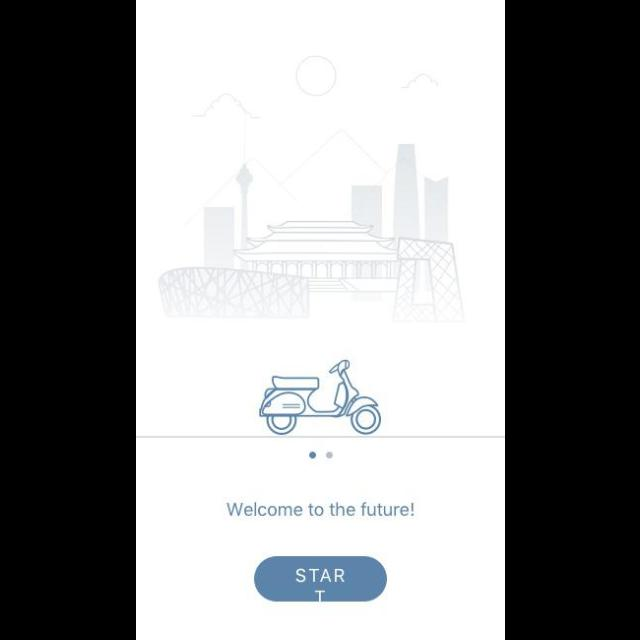image: (157, 55, 465, 323), (258, 359, 382, 437)
pageindicator: (308, 451, 334, 459)
text: (226, 500, 414, 518)
textbutton: (254, 554, 388, 602)
